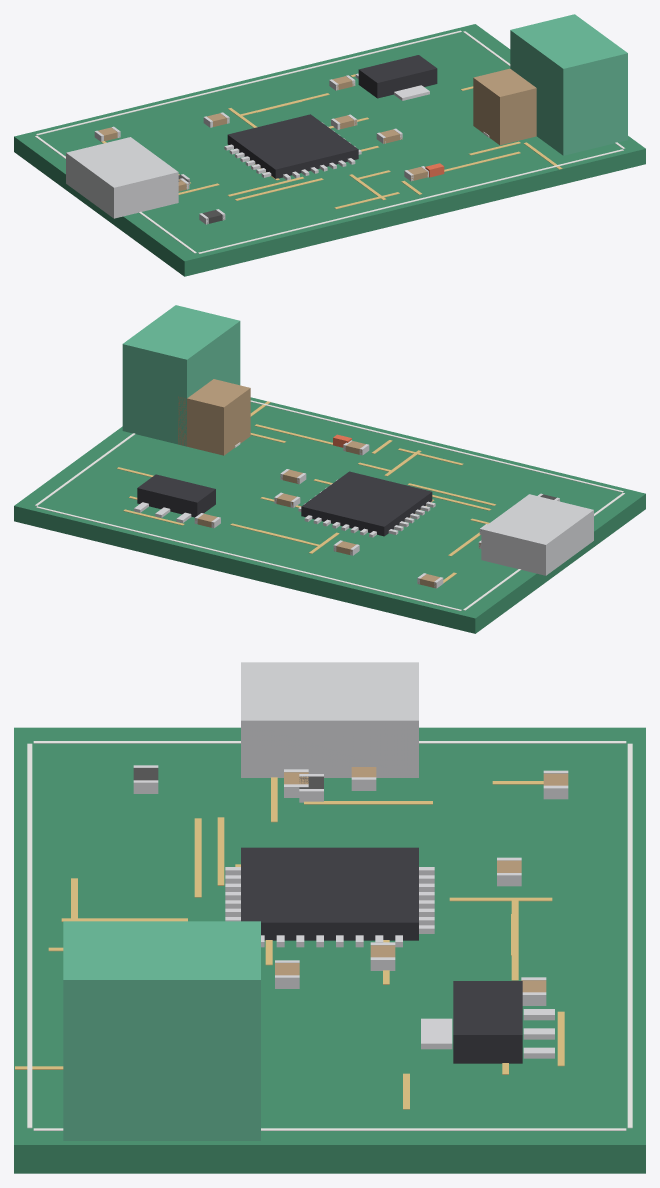
Rendered from example-board.glb.
3 renders of one model, top to bottom at view 1: azimuth 30°, elevation 25°; view 2: azimuth 150°, elevation 25°; view 3: azimuth 270°, elevation 25°, orthographic. The views are drawn at different scales.
Visible parts, largest first — view 1: mask, term, ic, usb, cap, silk, copper, pin; view 2: mask, term, ic, usb, cap, silk, copper, pin; view 3: mask, term, ic, usb, pin, silk, copper, cap.
Boxes of the visible parts, x1,y1,x2,y2 form: mask: (14, 24, 645, 276); term: (510, 14, 627, 155); ic: (227, 55, 437, 178); usb: (66, 137, 178, 218); cap: (98, 68, 536, 191); silk: (35, 30, 625, 253); copper: (101, 74, 562, 209); pin: (94, 73, 429, 224); mask: (14, 397, 645, 633); term: (122, 305, 240, 446); ic: (137, 471, 432, 536); usb: (481, 494, 593, 575); cap: (178, 379, 480, 587); silk: (35, 400, 624, 610); copper: (116, 401, 496, 583); pin: (134, 440, 559, 588); mask: (14, 727, 645, 1173); term: (63, 921, 260, 1140); ic: (241, 847, 522, 1063); usb: (241, 662, 418, 777); pin: (133, 765, 568, 1058); silk: (27, 741, 632, 1130); copper: (15, 777, 564, 1109); cap: (275, 767, 568, 992).
Size of the model in its own units: 51 by 10.6 by 32.
